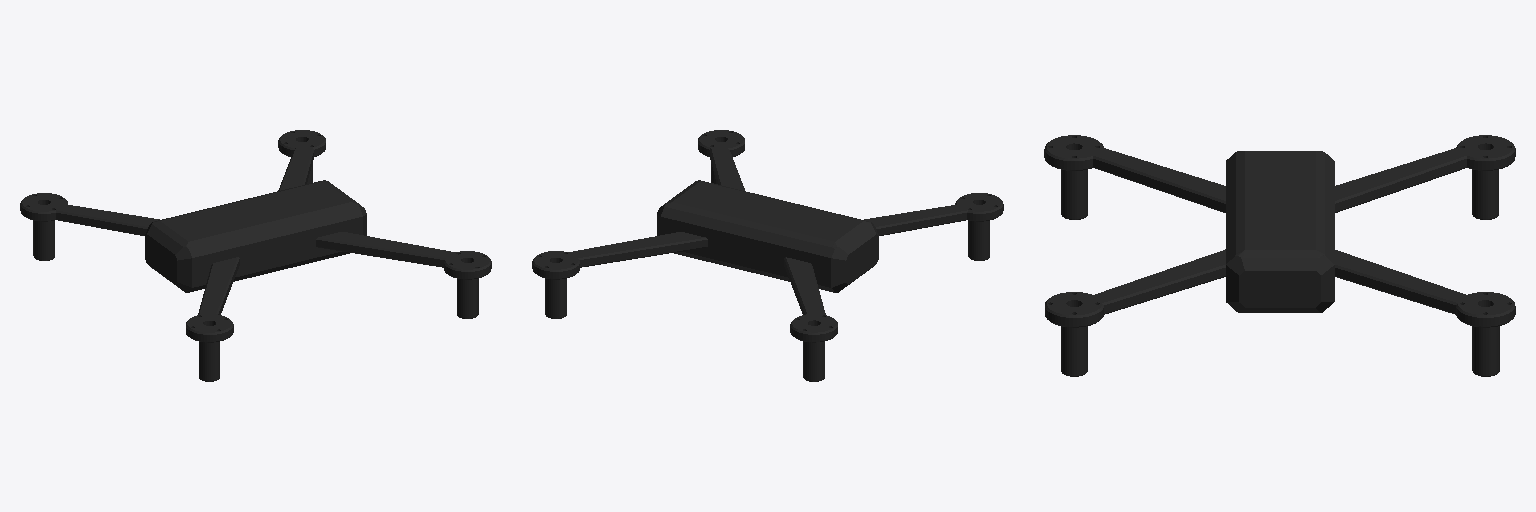
The robot description file, URDF, robot "quadcopter":
<?xml version="1.0"?>
<robot name="quadcopter">
  <link name="base_link">
    <!-- Visual representation using the DAE mesh file -->
    <visual>
      <origin xyz="0.0 0.0 0.0" rpy="0 0 0"/>
      <geometry>
        <mesh filename="package://multi_quadcopter_geometric_control/meshes/quad_model_v1.dae" scale="0.0010 0.0010 0.0010"/>
      </geometry>
    </visual>

    <!-- Collision representation using the DAE mesh file -->
    <collision>
      <origin xyz="0 0 0" rpy="0 0 0"/>
      <geometry>
        <mesh filename="package://multi_quadcopter_geometric_control/meshes/quad_model_v1.dae" scale="0.0010 0.0010 0.0010"/>
      </geometry>
    </collision>
  </link>
</robot>

--- What the picture shows (computed from the rendered views, not written in the file) ---
3 views of the same robot in one strip: view 1: azimuth 30°, elevation 25°; view 2: azimuth 150°, elevation 25°; view 3: azimuth 270°, elevation 25° (orthographic).
Robot: quadcopter — 1 links, 0 joints (none); root link base_link; default pose: all joints at 0.
Links seen in each view (by area): view 1: base_link; view 2: base_link; view 3: base_link.
Boxes of the visible links, x1,y1,x2,y2 form: base_link: [20, 130, 491, 381]; base_link: [532, 130, 1003, 381]; base_link: [1044, 135, 1515, 376].
Bounding box of the posed robot: 0.3158 × 0.3455 × 0.075 m (x, y, z).
Meshes: 1 distinct files referenced, 1 mesh visuals loaded (1 Collada DAE).